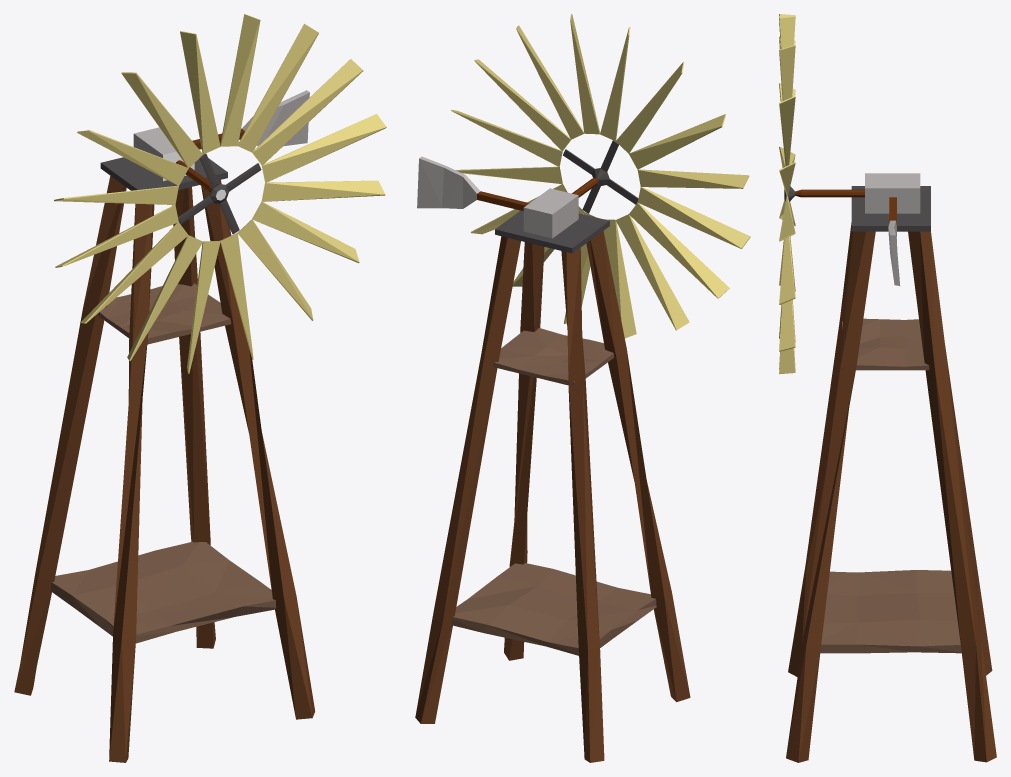
The model's file is Eolienne_01_vf.FBX.
3 renders of one model, left to right at view 1: azimuth 30°, elevation 25°; view 2: azimuth 150°, elevation 25°; view 3: azimuth 270°, elevation 25°, orthographic. The views are drawn at different scales.
Parts seen in each view (by area): view 1: Object001, Object002; view 2: Object001, Object002; view 3: Object001, Object002.
Part boxes in pixels (x1,y1,x2,y2): Object001: [14, 90, 315, 762]; Object002: [54, 14, 386, 373]; Object001: [415, 156, 690, 762]; Object002: [451, 14, 750, 338]; Object001: [786, 173, 996, 762]; Object002: [779, 14, 795, 374].
Bounding box in the file's own units: 442 × 936 × 269.
1 material, 1 textured.
